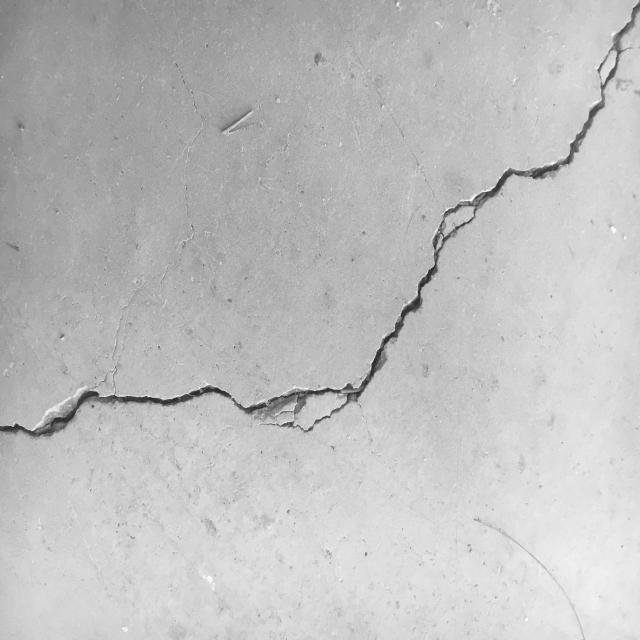SurfaceCrack: (2, 0, 640, 462)
